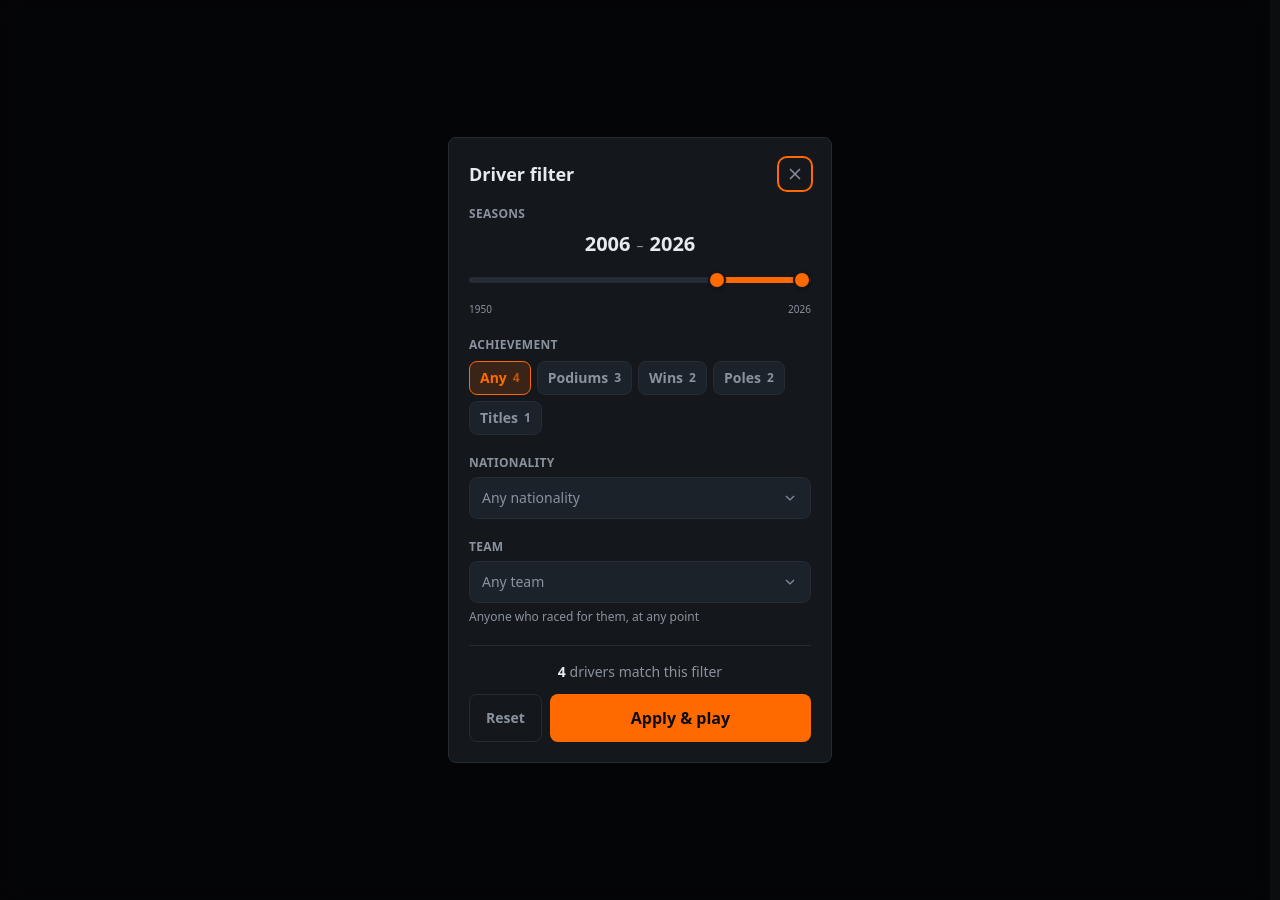
Test: DriverFilterModal › narrows the count as criteria are added, without touching the live filter
Step 1. Click the radio button with aria-label "World champions" → (505, 418), box left=469, top=401, right=542, bottom=435
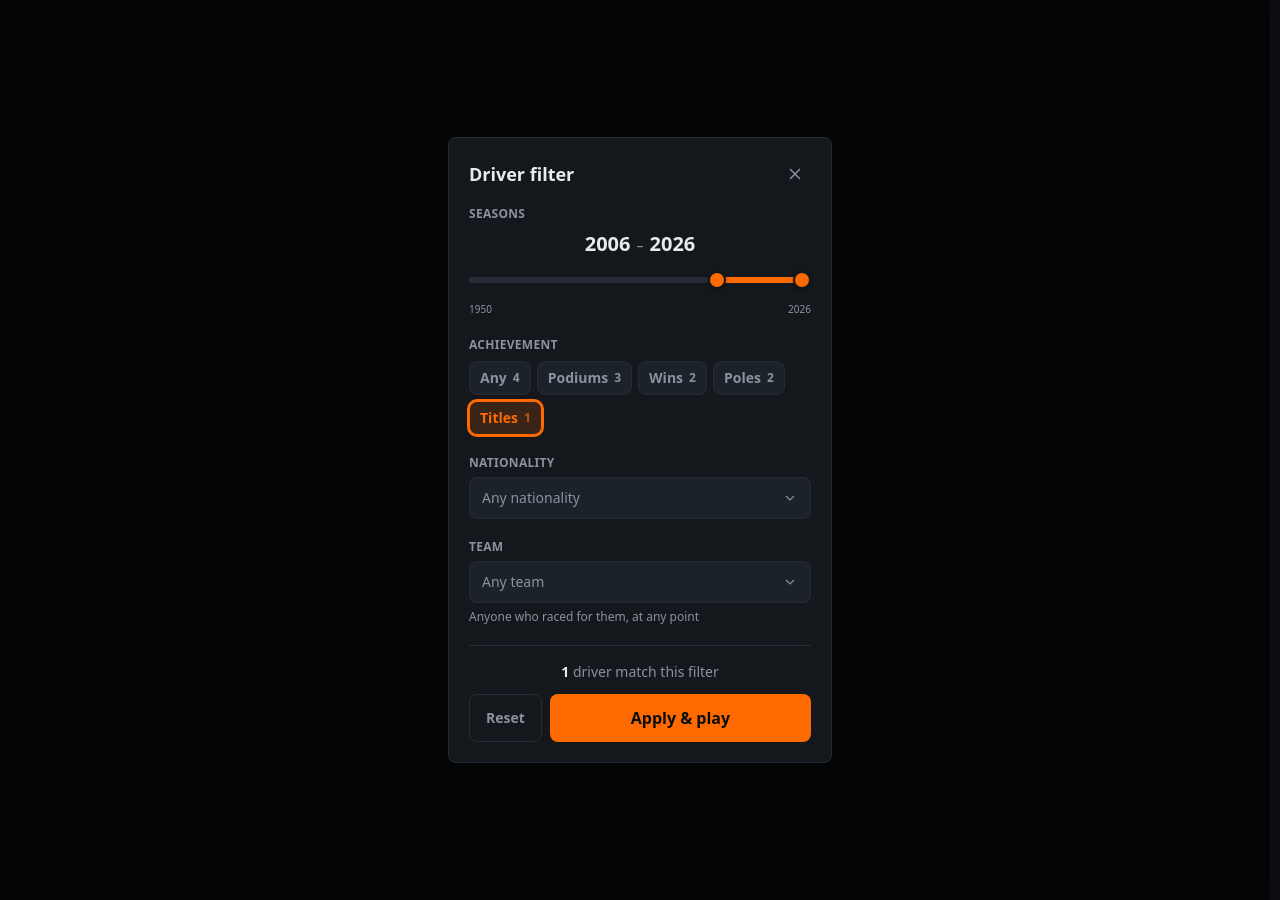
Expected: the message shows "1", left=561, top=662, right=569, bottom=681
